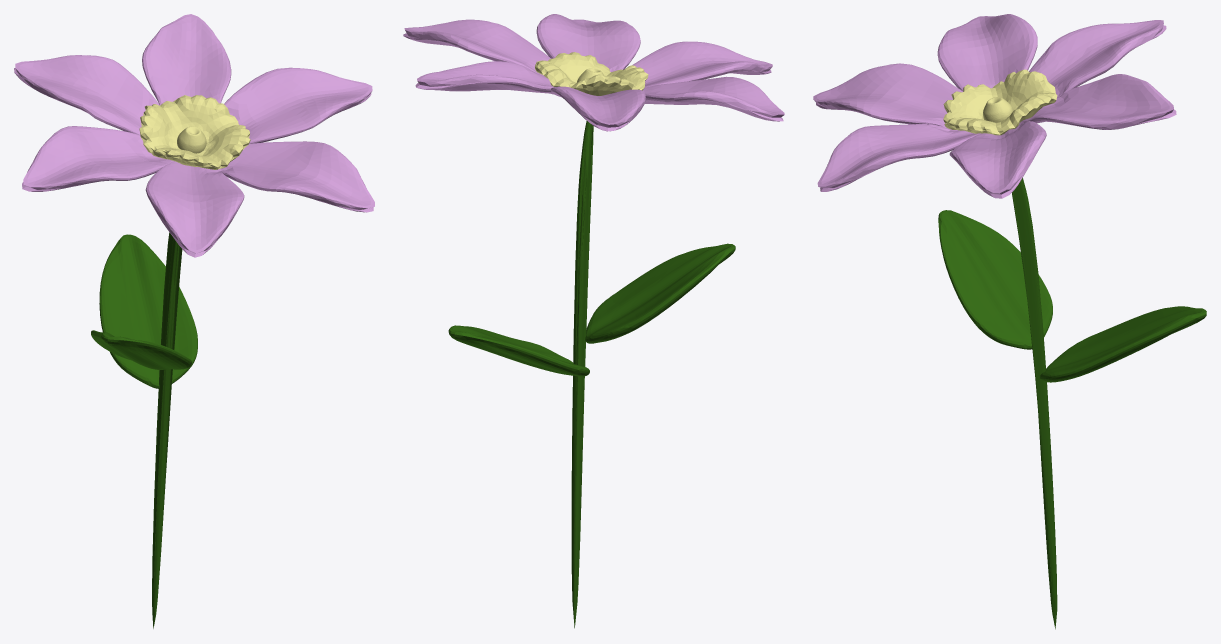
File: Guilt_Clematis.glb
3 renders of one model, left to right at view 1: azimuth 30°, elevation 25°; view 2: azimuth 150°, elevation 25°; view 3: azimuth 270°, elevation 25°, orthographic. The views are drawn at different scales.
Visible parts, largest first — view 1: Sphere.001; view 2: Sphere.001; view 3: Sphere.001.
Part boxes in pixels (x1,y1,x2,y2): Sphere.001: (14,14,374,628); Sphere.001: (403,14,784,628); Sphere.001: (813,14,1206,629).
Bounding box in the file's own units: 10.33 × 15.33 × 9.51.
